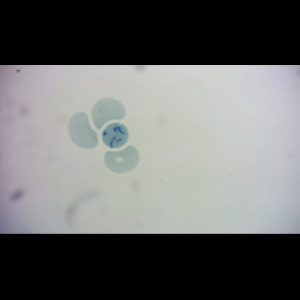aggregate reticulocyte: (100, 121, 129, 149)
erythrocyte: (66, 110, 100, 149), (103, 145, 141, 175)
punctate reticulocyte: (89, 96, 127, 130)
